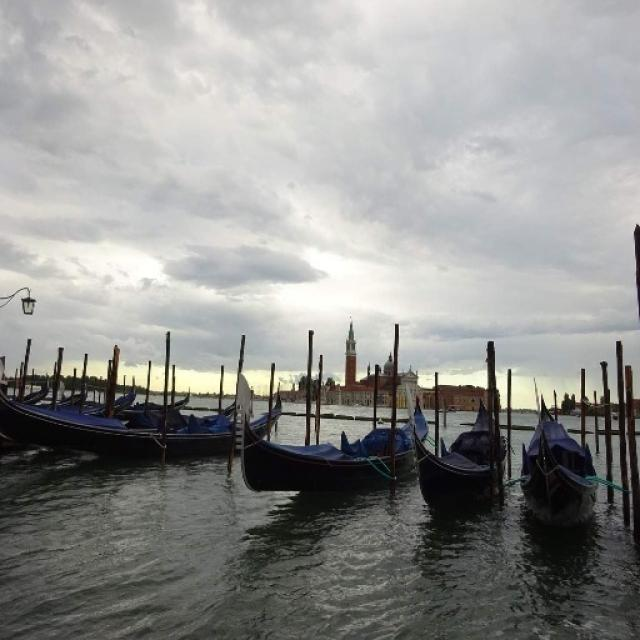boat: (2, 344, 288, 466), (227, 360, 438, 511), (404, 344, 515, 542), (526, 382, 610, 534)
